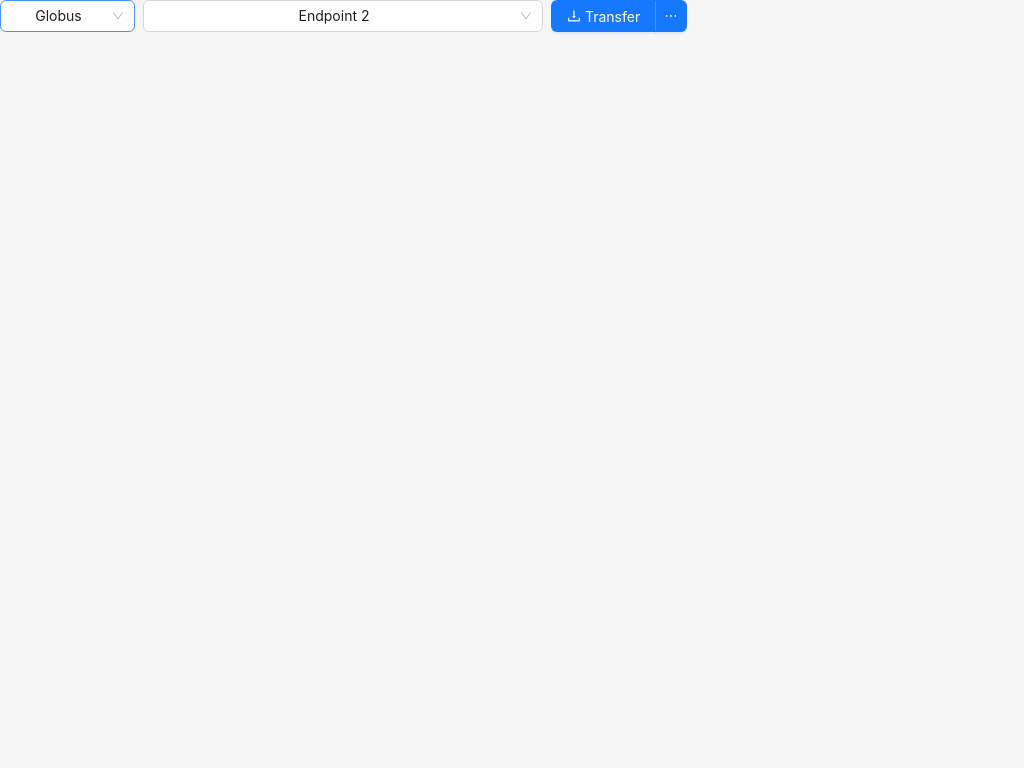
DatasetDownload form tests › alerts when one item is not transferable via Globus
The image size is (1024, 768).
Expected: the element with test id "downloadDatasetTransferBtn" is shown, 567,8 -> 640,24
Step 1. Click the button with test id "downloadDatasetTransferBtn" → (604, 16), box 551,0 -> 656,32
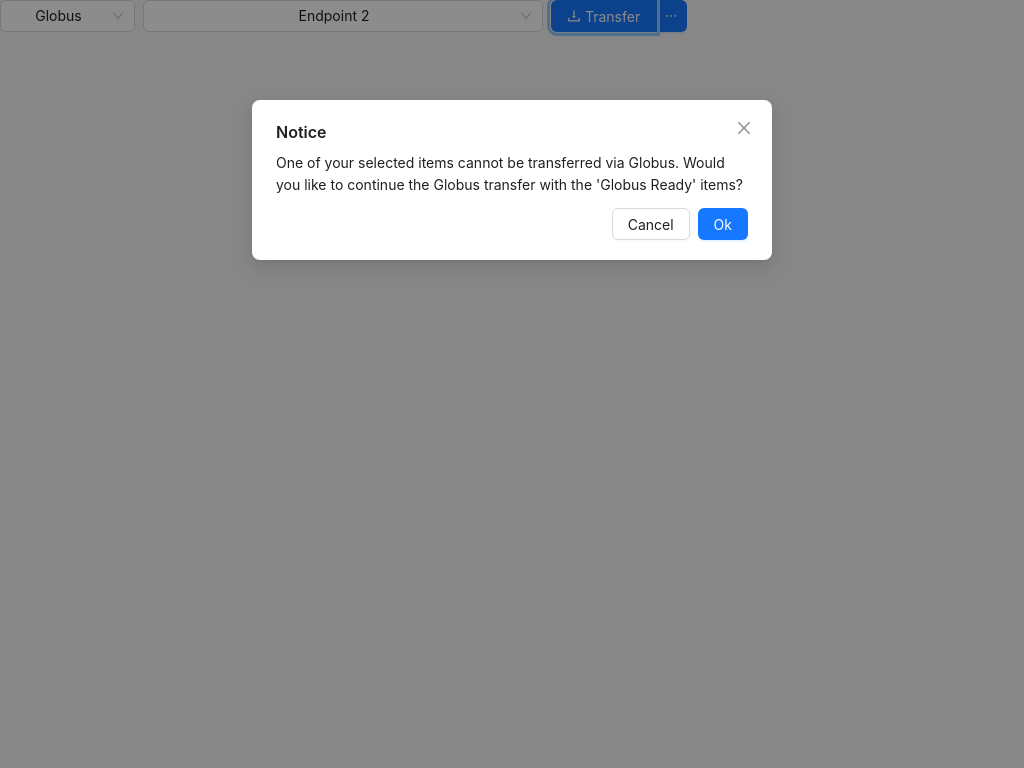
Expected: the text "One of your selected items cannot be transferred via Globus." is shown, 276,154 -> 743,193
